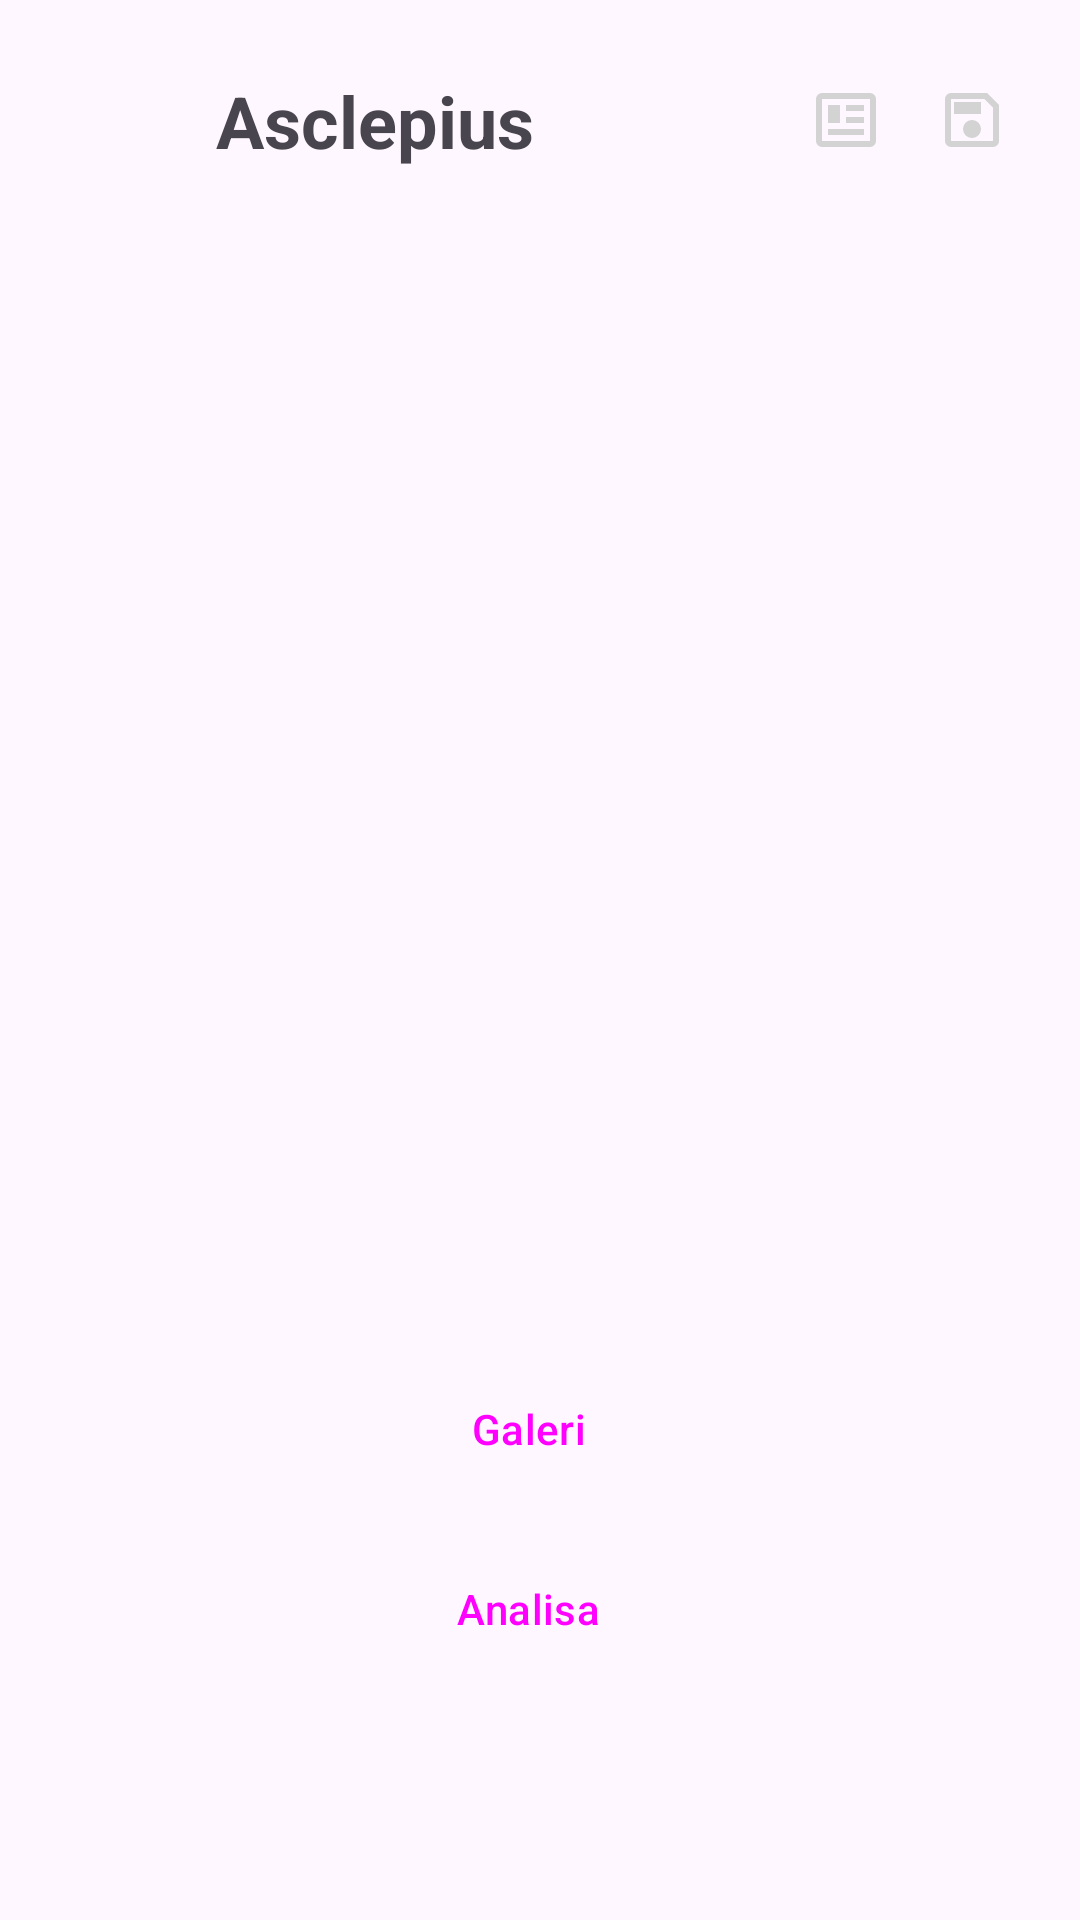

Point at icon controls on the screen. Image size 1080 × 1920, points as (x,y).
news: (846,120)
save: (972,120)
